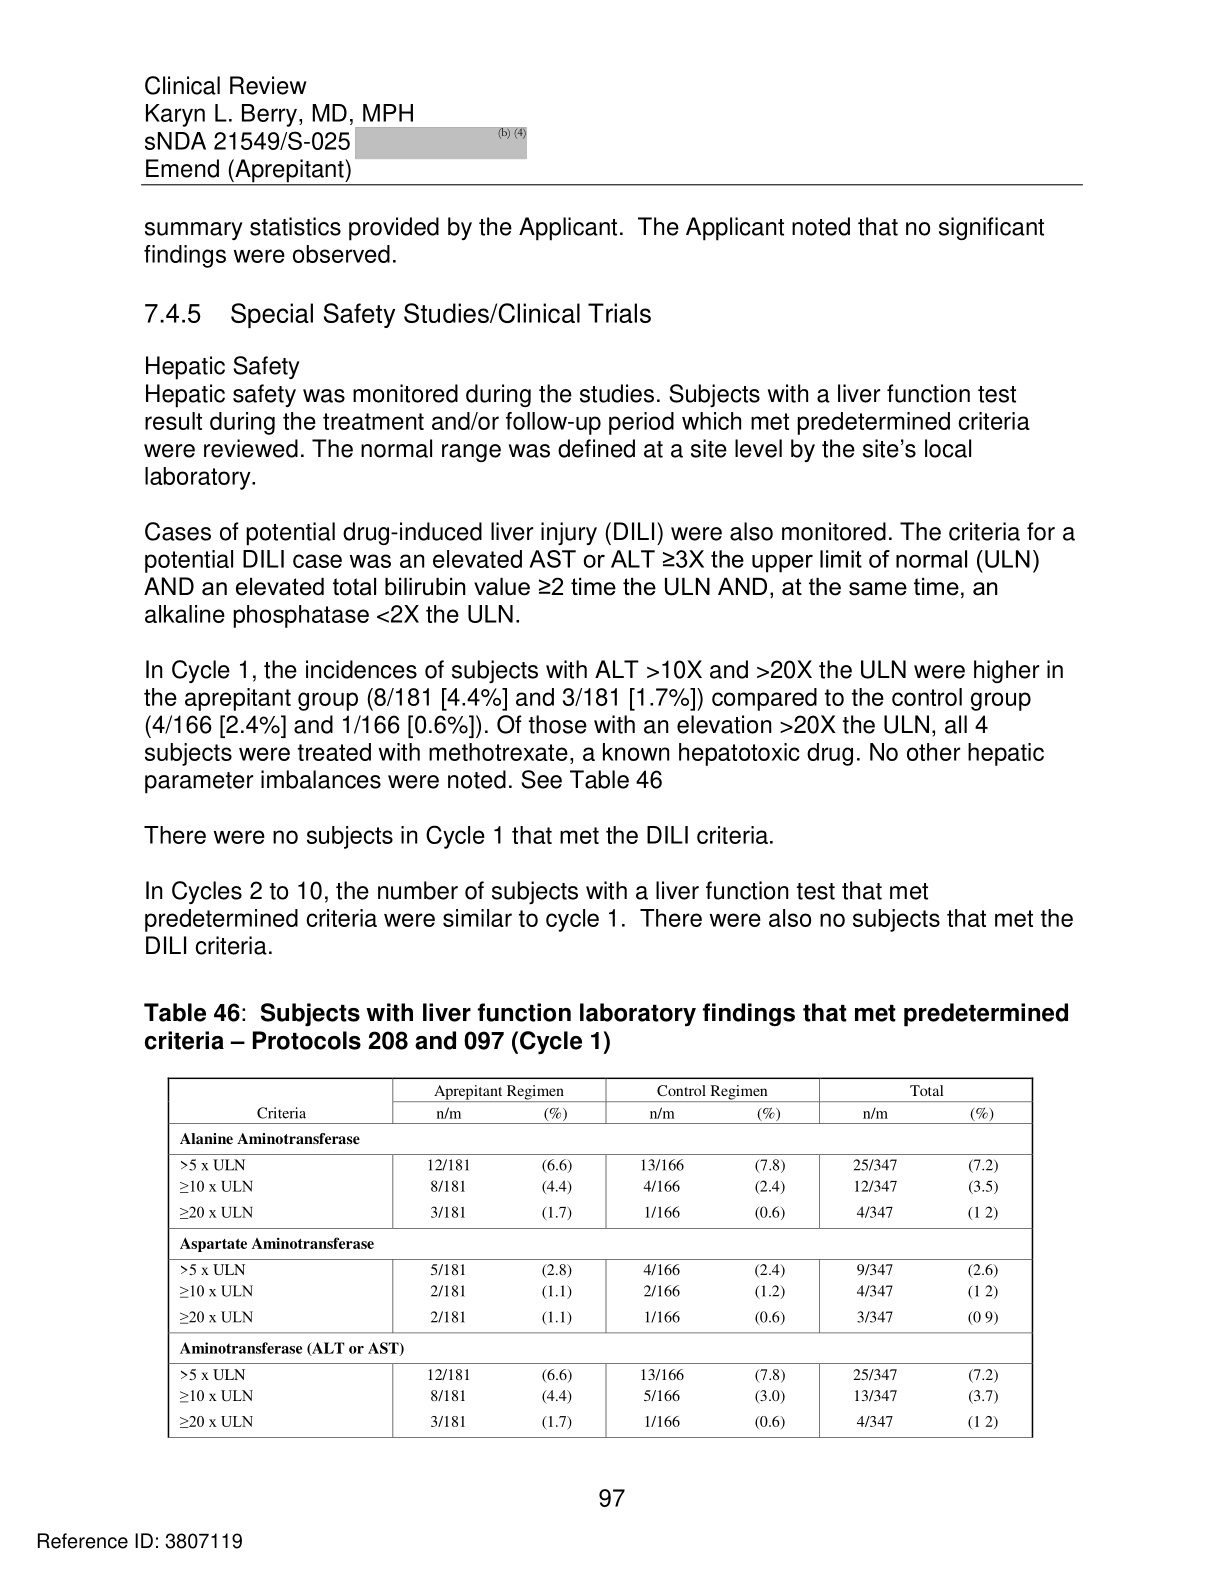merged_cells: (167, 1076, 1034, 1439)
